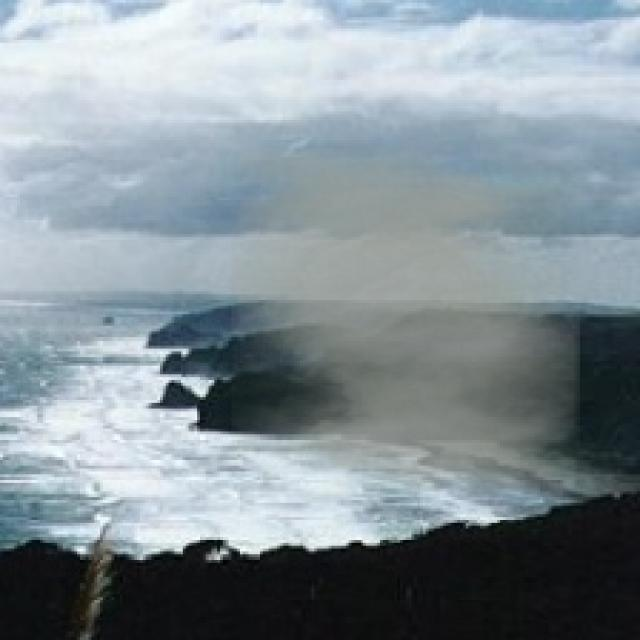Smoke: (231, 148, 580, 494)
